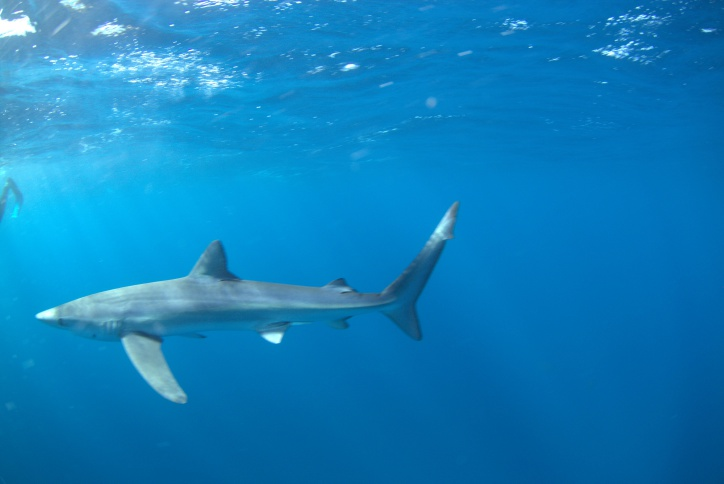Azul: (29, 193, 536, 415)
